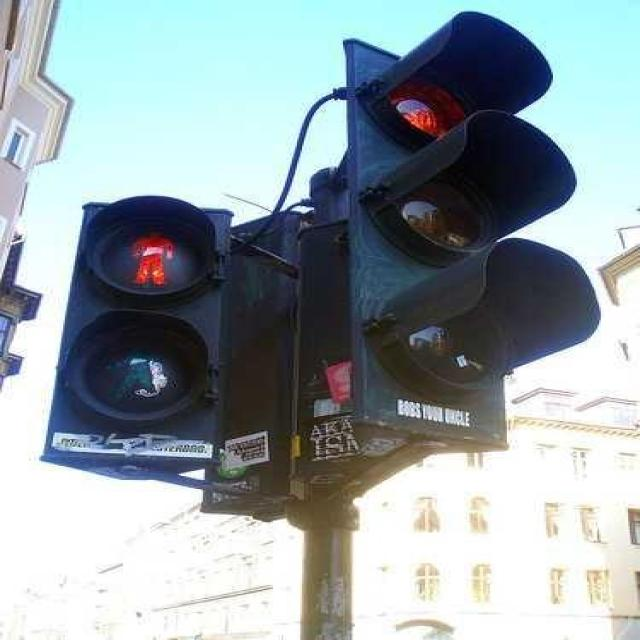Traffic Light -Red-: (343, 7, 606, 451)
